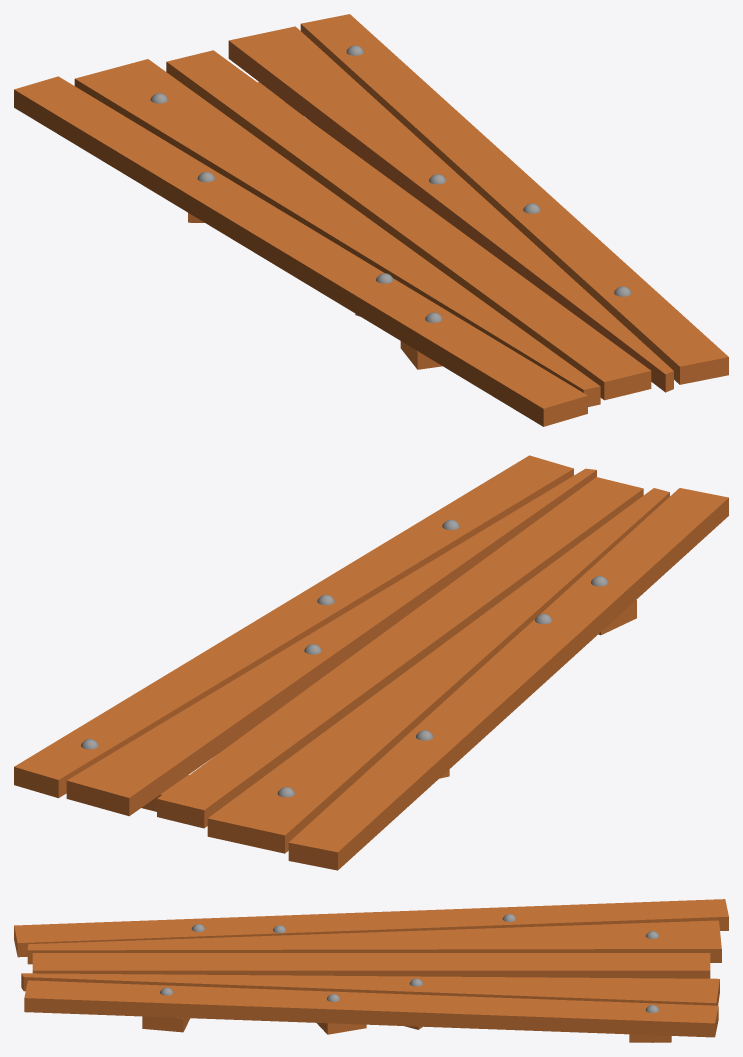
The model's file is ChickenFloor.fbx.
3 renders of one model, top to bottom at view 1: azimuth 30°, elevation 25°; view 2: azimuth 150°, elevation 25°; view 3: azimuth 270°, elevation 25°, orthographic. The views are drawn at different scales.
Parts seen in each view (by area): view 1: Cube.002, Cube, Cube.001, Cube.003, Cube.004; view 2: Cube.002, Cube, Cube.001, Cube.003, Cube.004; view 3: Cube.001, Cube, Cube.002, Cube.003, Cube.004, Cube.005, Cube.006, Cube.008.
Boxes of the visible parts, x1=… form: Cube.002: x1=14, y1=76, x2=587, y2=426; Cube: x1=166, y1=50, x2=651, y2=400; Cube.001: x1=300, y1=14, x2=728, y2=384; Cube.003: x1=74, y1=59, x2=600, y2=406; Cube.004: x1=228, y1=26, x2=673, y2=392; Cube.002: x1=288, y1=488, x2=728, y2=870; Cube: x1=157, y1=477, x2=643, y2=828; Cube.001: x1=14, y1=455, x2=573, y2=798; Cube.003: x1=207, y1=488, x2=669, y2=853; Cube.004: x1=66, y1=468, x2=596, y2=816; Cube.001: x1=24, y1=980, x2=718, y2=1037; Cube: x1=32, y1=953, x2=710, y2=978; Cube.002: x1=14, y1=899, x2=728, y2=957; Cube.003: x1=27, y1=920, x2=721, y2=964; Cube.004: x1=21, y1=973, x2=719, y2=1005; Cube.005: x1=142, y1=1016, x2=189, y2=1032; Cube.006: x1=317, y1=1023, x2=366, y2=1034; Cube.008: x1=629, y1=1034, x2=671, y2=1042.
Size of the model in its own units: 217 by 29.82 by 527.
